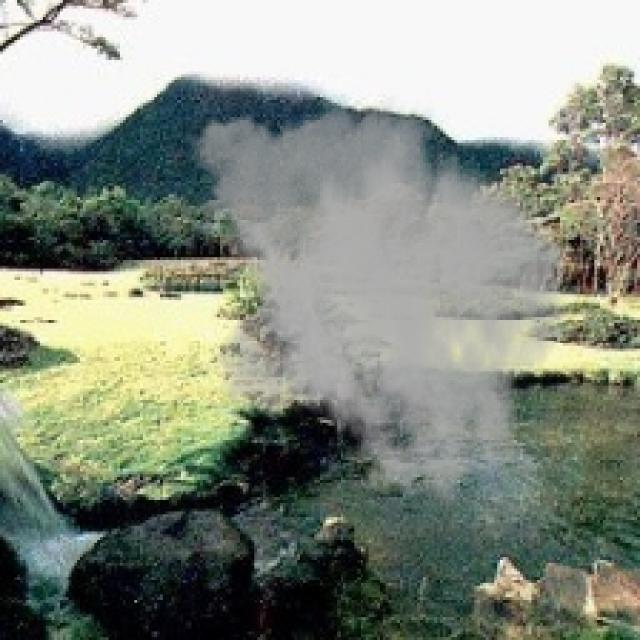Smoke: (177, 91, 569, 508)
